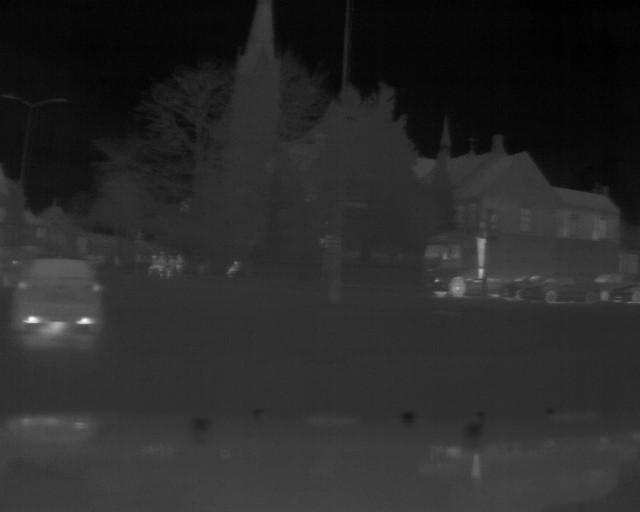car: (11, 252, 105, 333), (418, 222, 497, 304), (520, 272, 597, 307), (588, 273, 637, 305), (501, 271, 551, 300)
person: (144, 249, 169, 281)
